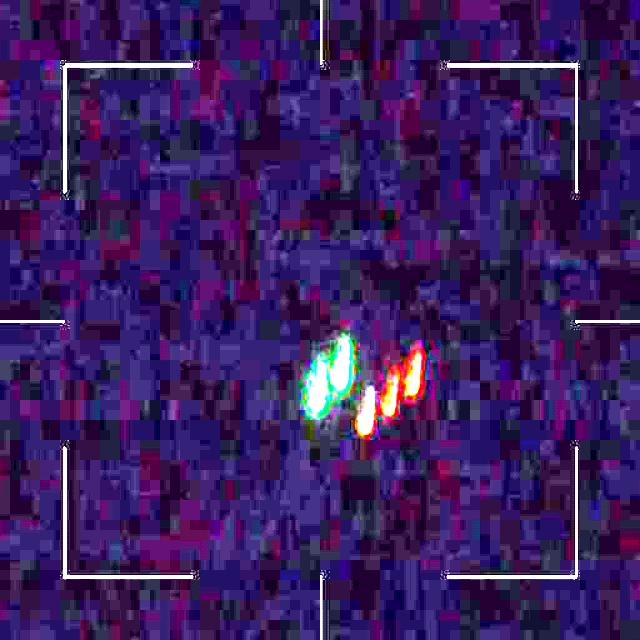bird: (306, 338, 424, 434)
